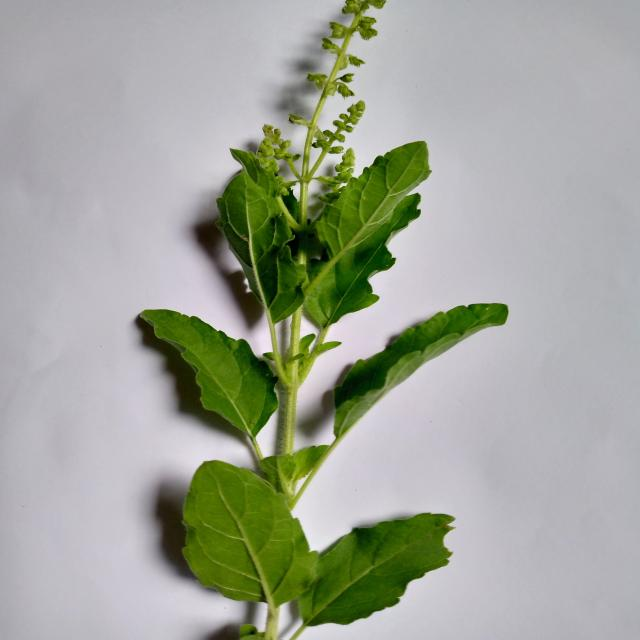tulsi: (136, 0, 512, 640)
